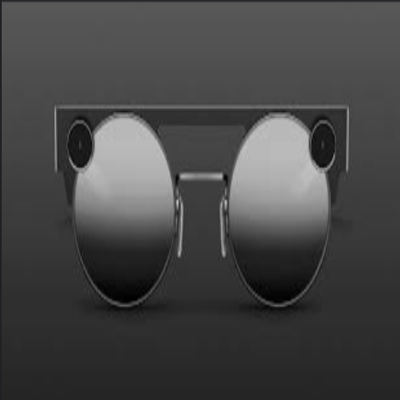glasses: (50, 99, 352, 319)
